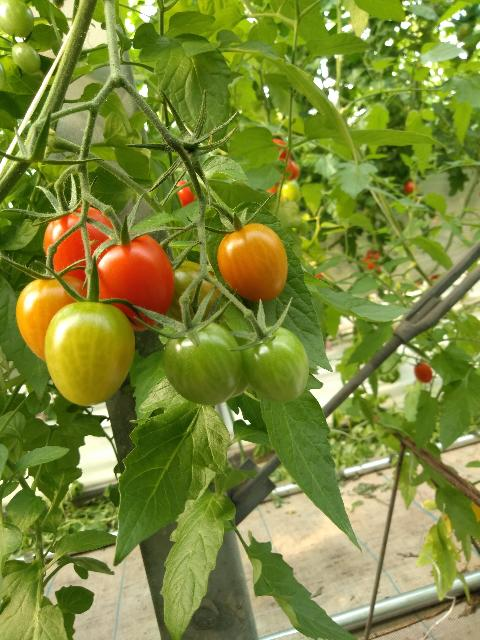l_fully_ripened: (89, 232, 176, 330), (43, 205, 119, 284)
l_green: (45, 300, 135, 406), (163, 320, 244, 407), (240, 326, 310, 404), (165, 260, 223, 329), (0, 0, 34, 39), (11, 43, 41, 73)
l_half_ripened: (15, 274, 93, 362), (217, 222, 288, 303)
